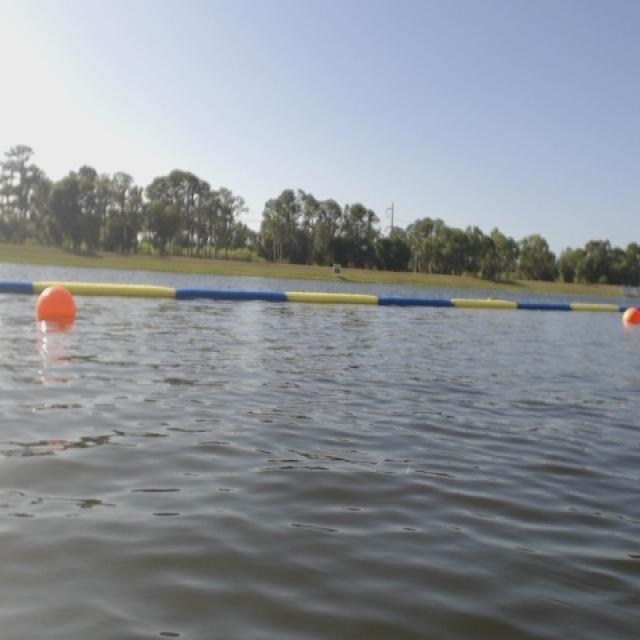Orange__Buoy: (28, 283, 78, 331), (620, 309, 640, 330)
